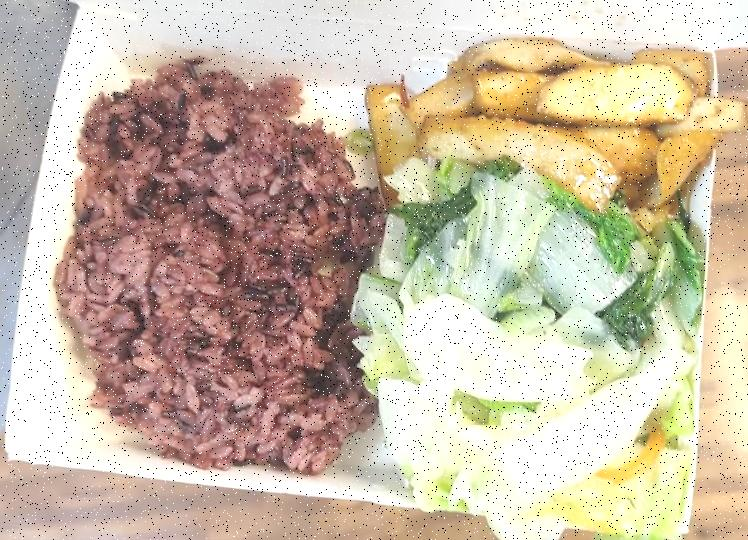box: (12, 1, 726, 540)
purple rice: (72, 59, 386, 475)
side dish: (358, 297, 710, 525), (360, 29, 720, 215), (379, 163, 705, 337)
